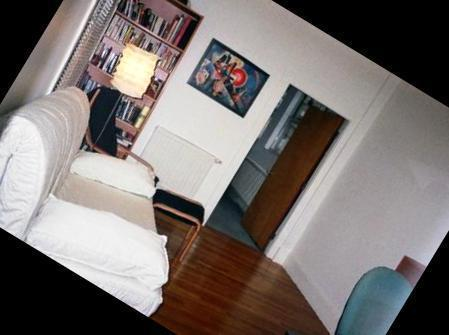Otro Obstaculo: (132, 121, 220, 202)
Puerta: (233, 104, 343, 250)
